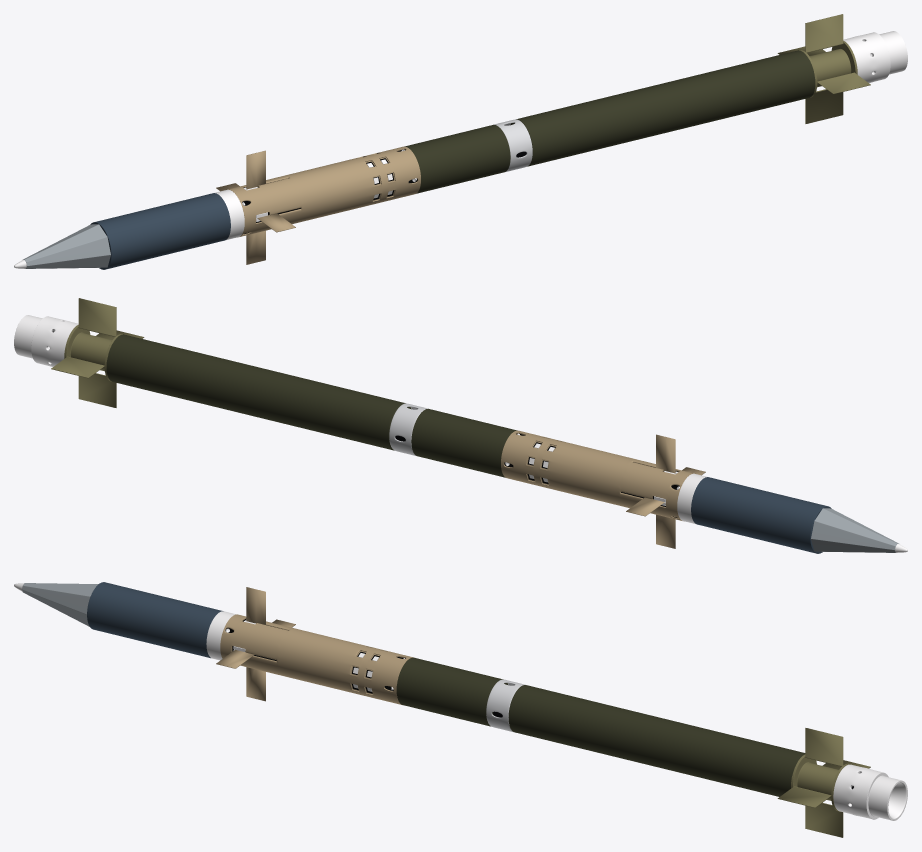
File: mistral_rocket.glb
The picture shows the model from 3 angles, top to bottom: view 1: azimuth 30°, elevation 25°; view 2: azimuth 150°, elevation 25°; view 3: azimuth 330°, elevation 25°; orthographic projection.
Visible parts, largest first — view 1: roket_body_back, servomotor_section, roket_body_front, irdome, launch_motor, stabilizer_back_base, stabilizer_back_3, cor_motor, stabilizer_back_1, stabilizer_front_3, stabilizer_back_4, stabilizer_front_1; view 2: roket_body_back, servomotor_section, roket_body_front, irdome, launch_motor, stabilizer_back_base, stabilizer_back_3, cor_motor, stabilizer_back_1, stabilizer_front_3, stabilizer_back_2, stabilizer_front_1; view 3: roket_body_back, servomotor_section, roket_body_front, launch_motor, irdome, stabilizer_back_base, stabilizer_back_3, cor_motor, stabilizer_back_1, stabilizer_front_3, stabilizer_back_4, stabilizer_front_1.
Part boxes in pixels (x1=…): roket_body_back: x1=404, y1=50, x2=815, y2=193; servomotor_section: x1=226, y1=146, x2=420, y2=236; roket_body_front: x1=90, y1=189, x2=244, y2=269; irdome: x1=14, y1=224, x2=110, y2=268; launch_motor: x1=843, y1=31, x2=907, y2=82; stabilizer_back_base: x1=799, y1=41, x2=857, y2=97; stabilizer_back_3: x1=805, y1=14, x2=843, y2=52; cor_motor: x1=494, y1=119, x2=532, y2=171; stabilizer_back_1: x1=805, y1=89, x2=843, y2=123; stabilizer_front_3: x1=246, y1=150, x2=265, y2=189; stabilizer_back_4: x1=817, y1=72, x2=870, y2=94; stabilizer_front_1: x1=246, y1=230, x2=265, y2=264; roket_body_back: x1=106, y1=334, x2=517, y2=477; servomotor_section: x1=501, y1=430, x2=695, y2=520; roket_body_front: x1=677, y1=473, x2=831, y2=553; irdome: x1=811, y1=508, x2=907, y2=552; launch_motor: x1=14, y1=315, x2=78, y2=366; stabilizer_back_base: x1=64, y1=325, x2=122, y2=381; stabilizer_back_3: x1=78, y1=298, x2=116, y2=336; cor_motor: x1=389, y1=403, x2=427, y2=455; stabilizer_back_1: x1=78, y1=373, x2=116, y2=407; stabilizer_front_3: x1=656, y1=434, x2=675, y2=473; stabilizer_back_2: x1=51, y1=356, x2=104, y2=378; stabilizer_front_1: x1=656, y1=514, x2=675, y2=548; roket_body_back: x1=396, y1=657, x2=805, y2=796; servomotor_section: x1=220, y1=614, x2=413, y2=705; roket_body_front: x1=87, y1=582, x2=236, y2=660; launch_motor: x1=833, y1=764, x2=907, y2=820; irdome: x1=14, y1=583, x2=98, y2=626; stabilizer_back_base: x1=791, y1=754, x2=852, y2=811; stabilizer_back_3: x1=805, y1=728, x2=843, y2=766; cor_motor: x1=486, y1=679, x2=525, y2=732; stabilizer_back_1: x1=805, y1=802, x2=843, y2=837; stabilizer_front_3: x1=246, y1=587, x2=265, y2=624; stabilizer_back_4: x1=777, y1=786, x2=831, y2=807; stabilizer_front_1: x1=246, y1=667, x2=265, y2=701.
Bounding box in the file's own units: 1.86 × 0.2201 × 0.2201.
